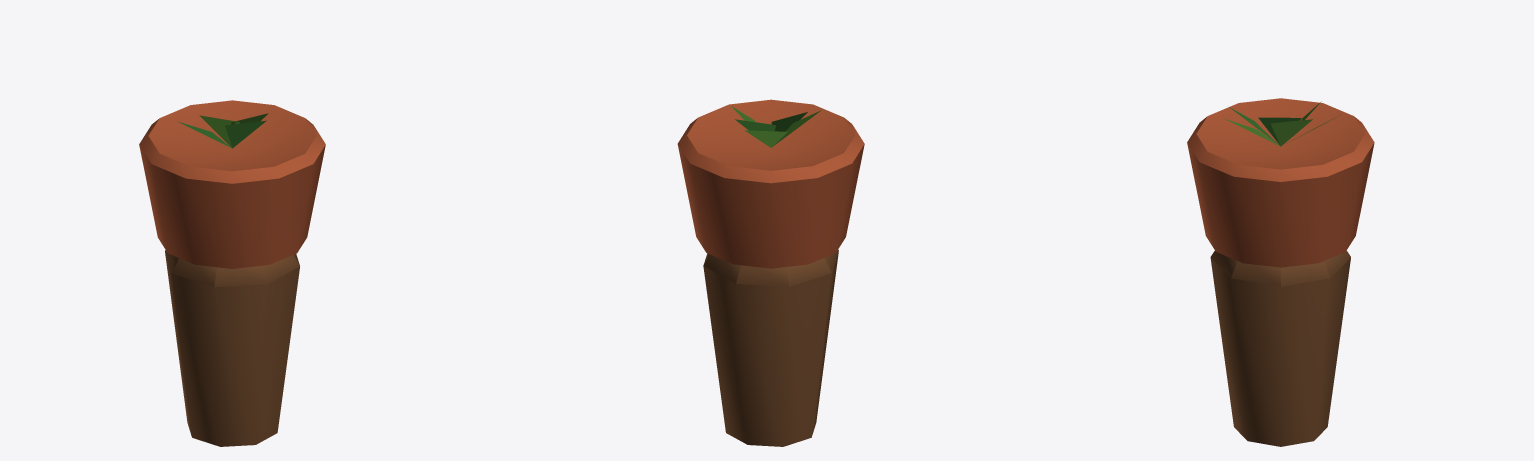
Rendered from fern_pot.glb.
3 renders of one model, left to right at view 1: azimuth 30°, elevation 25°; view 2: azimuth 150°, elevation 25°; view 3: azimuth 270°, elevation 25°, orthographic.
Visible parts, largest first — view 1: furniture-fern_pot; view 2: furniture-fern_pot; view 3: furniture-fern_pot.
Boxes of the visible parts, x1=… form: furniture-fern_pot: x1=139, y1=100, x2=325, y2=446; furniture-fern_pot: x1=677, y1=99, x2=864, y2=446; furniture-fern_pot: x1=1187, y1=98, x2=1374, y2=446.
Bounding box in the file's own units: 0.97 × 0.799 × 0.9616.
